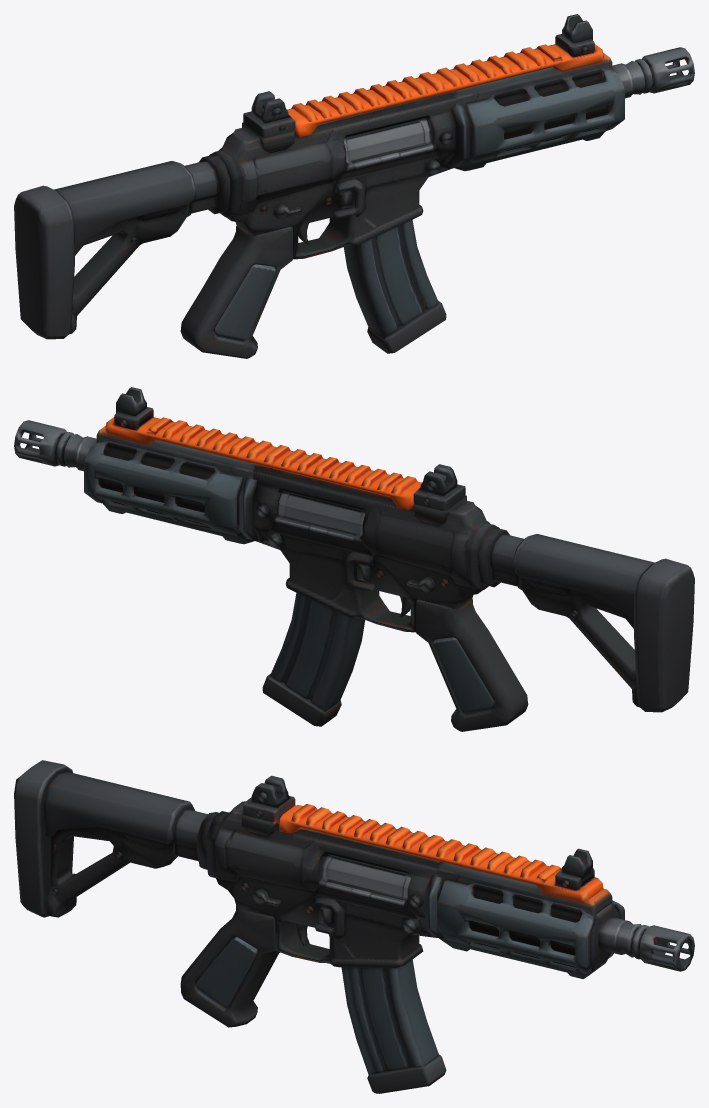
File: assault-carbine.glb
3 views of the same model, one above another, from view 1: azimuth 30°, elevation 25°; view 2: azimuth 150°, elevation 25°; view 3: azimuth 330°, elevation 25° (orthographic).
Visible parts, largest first — view 1: tripo_node_0ee082e9-9b4b-45ff-84f5-c5d2d53ec352; view 2: tripo_node_0ee082e9-9b4b-45ff-84f5-c5d2d53ec352; view 3: tripo_node_0ee082e9-9b4b-45ff-84f5-c5d2d53ec352.
Boxes of the visible parts, <box> form: tripo_node_0ee082e9-9b4b-45ff-84f5-c5d2d53ec352: <box>14,14,694,358</box>; tripo_node_0ee082e9-9b4b-45ff-84f5-c5d2d53ec352: <box>14,387,694,731</box>; tripo_node_0ee082e9-9b4b-45ff-84f5-c5d2d53ec352: <box>14,760,694,1093</box>.
Size of the model in its own units: 0.9995 by 0.4067 by 0.103.
1 material, 1 textured.
